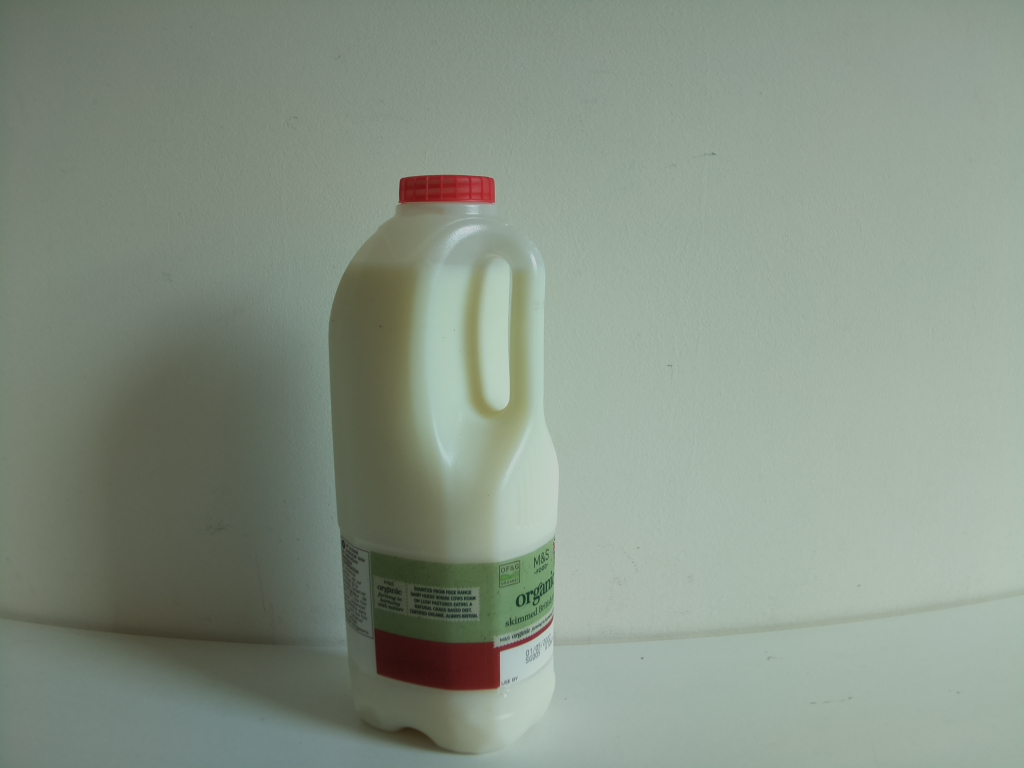milk: (322, 168, 559, 761)
